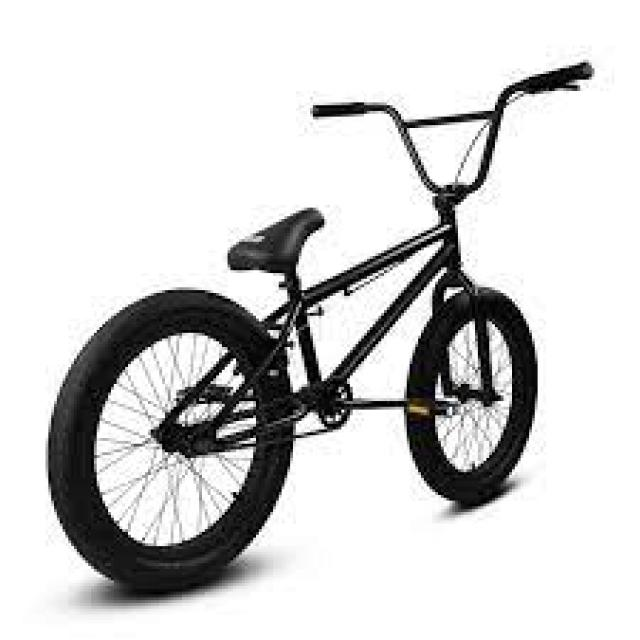bmx-bike: (45, 63, 605, 597)
